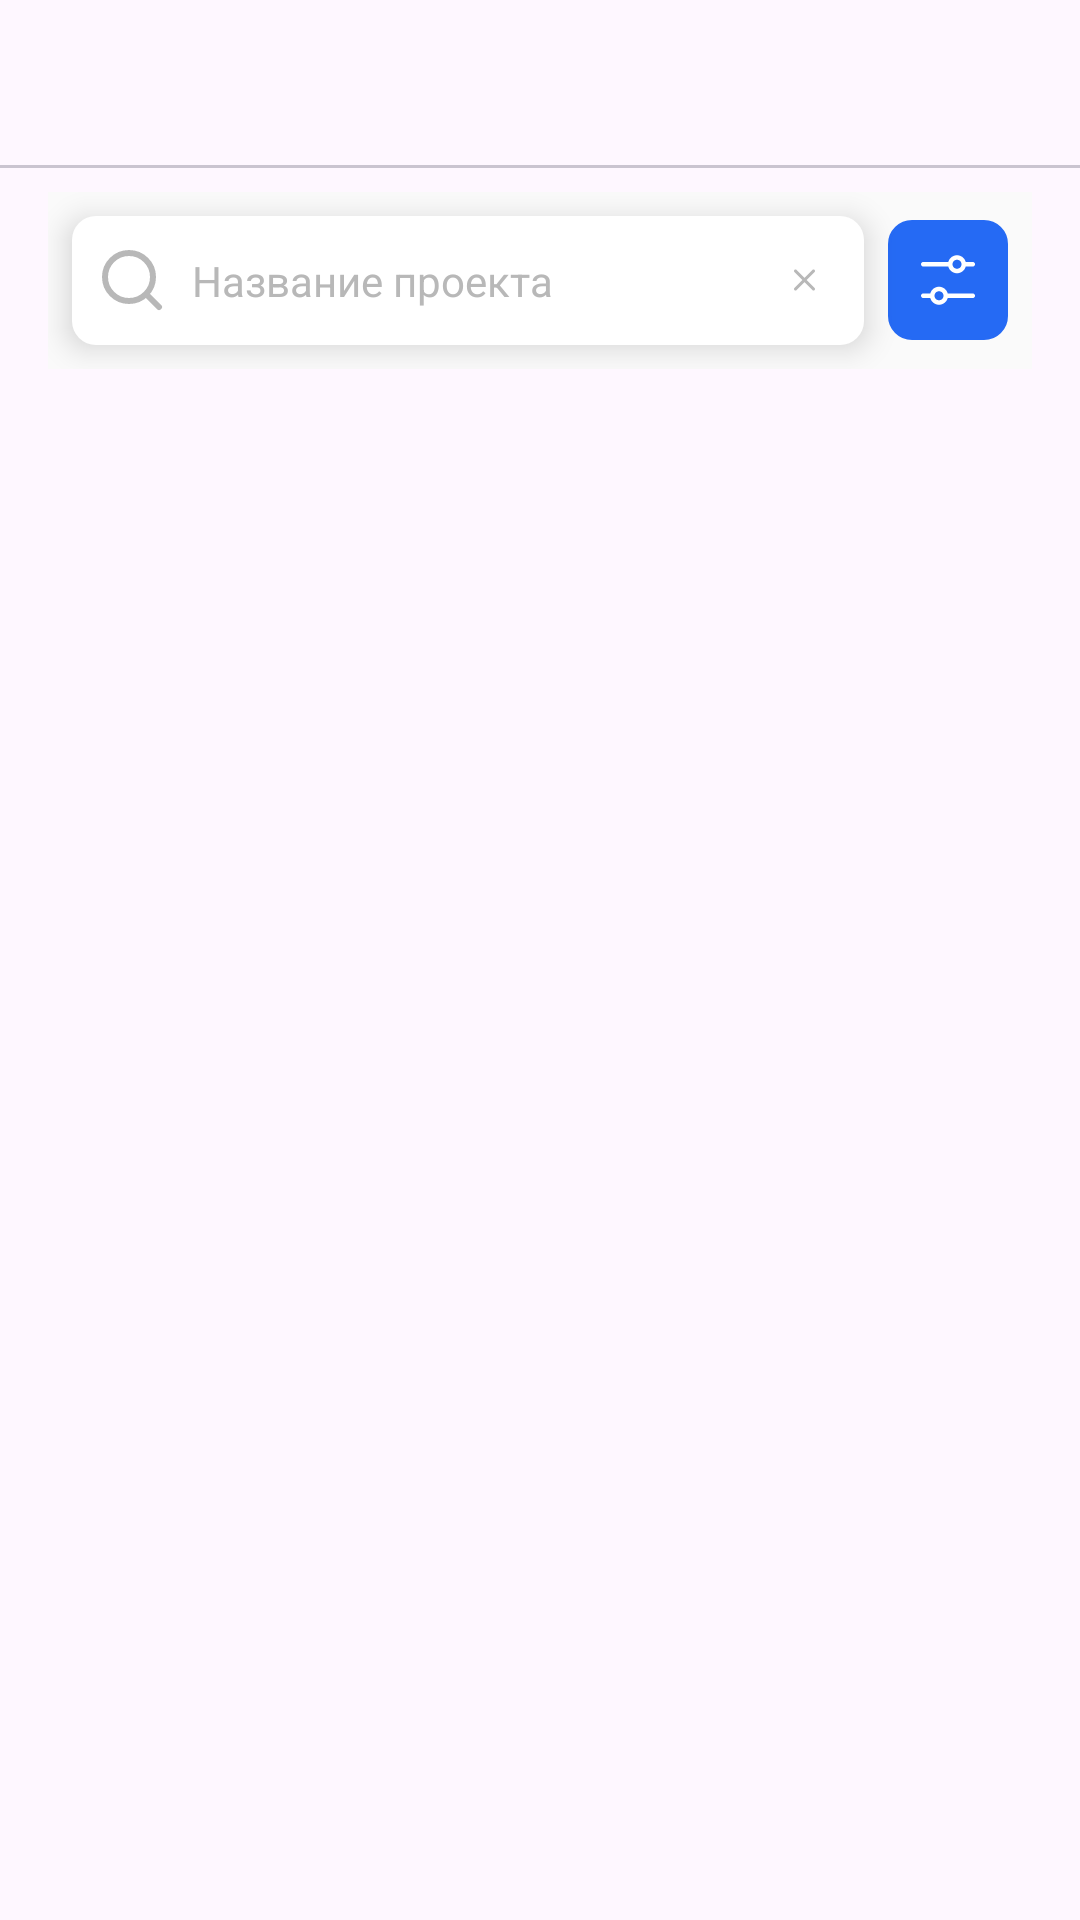

Screen size 1080px x 1920px. Icon name, then its box in pixels as (x1, y1, x2, y2):
settings: (888, 220, 1008, 340)
Поиск: (102, 250, 162, 310)
